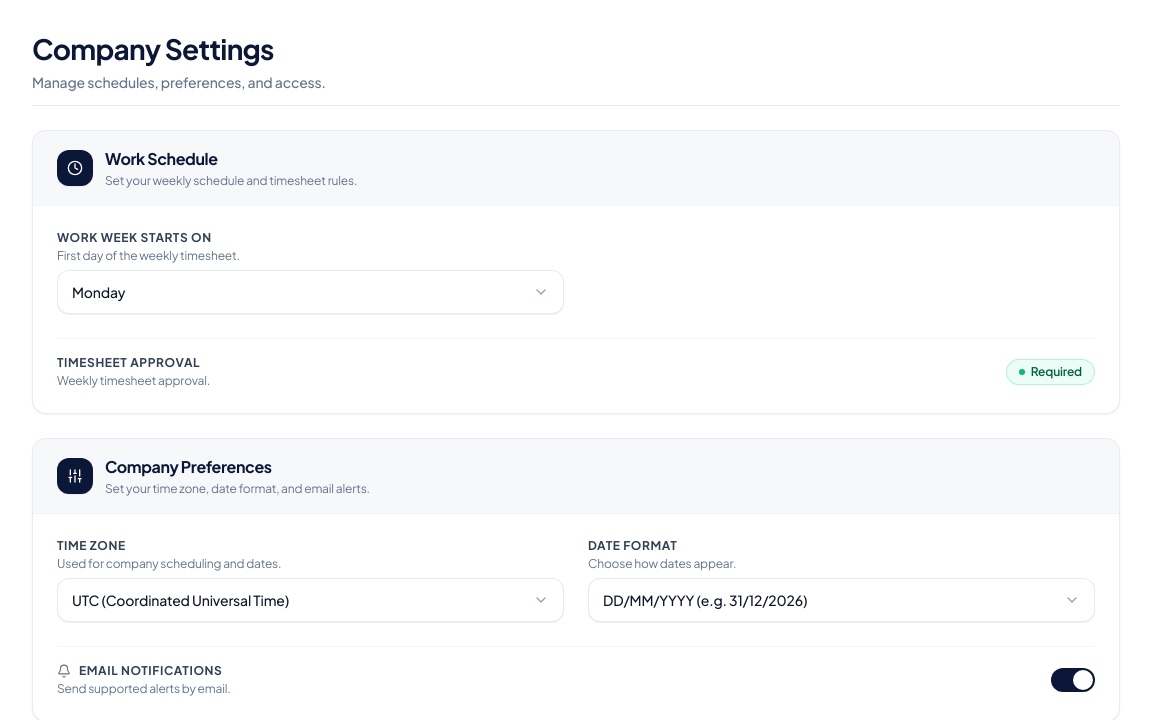
OrganizationSettings - Company Settings Page › toggles email notifications, reveals unsaved changes dock, and saves changes
The width and height of the screenshot is (1152, 720).
Check: the text "unsaved changes" is not shown
What coordinates should you click on to do the following:
click the switch named "toggle email notifications"
I would click on:
 (1073, 680)
Its box is [1051, 668, 1095, 692].
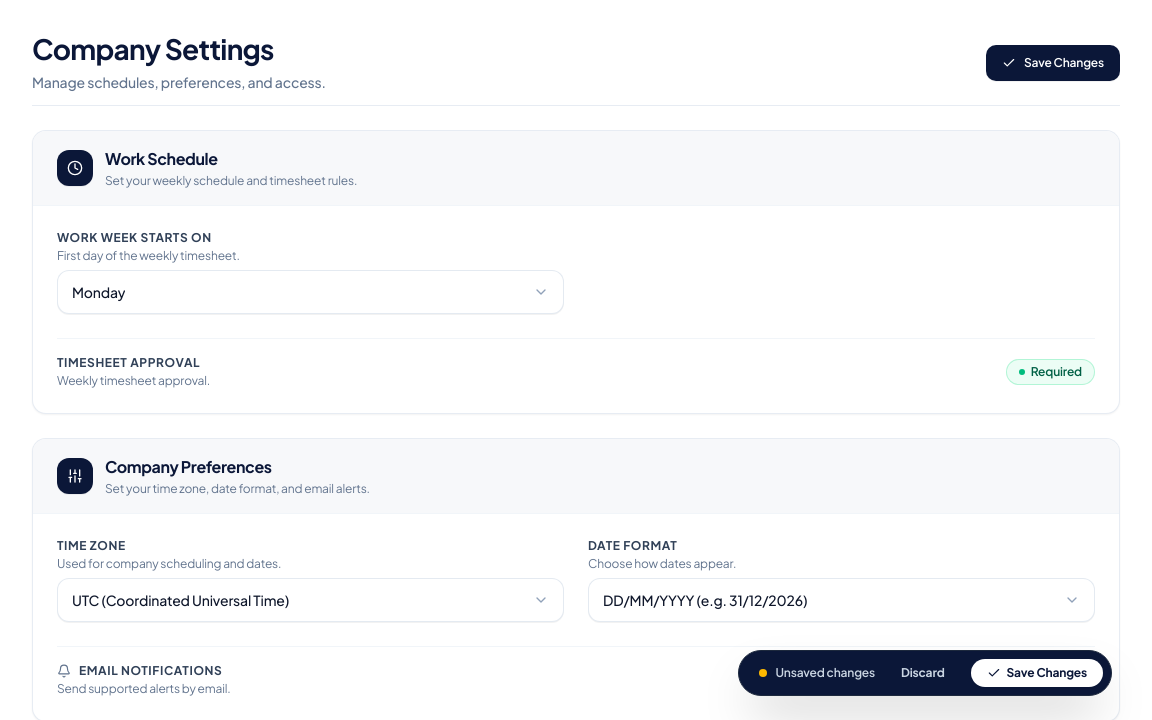
Check: the text "Unsaved changes" is shown, box [760, 665, 875, 681]
Note: Click Save Changes button
What coordinates should you click on to do the following:
click the button "Save Changes" in the row of "Unsaved changes"
I would click on:
 (1037, 673)
Its box is [971, 659, 1103, 687].
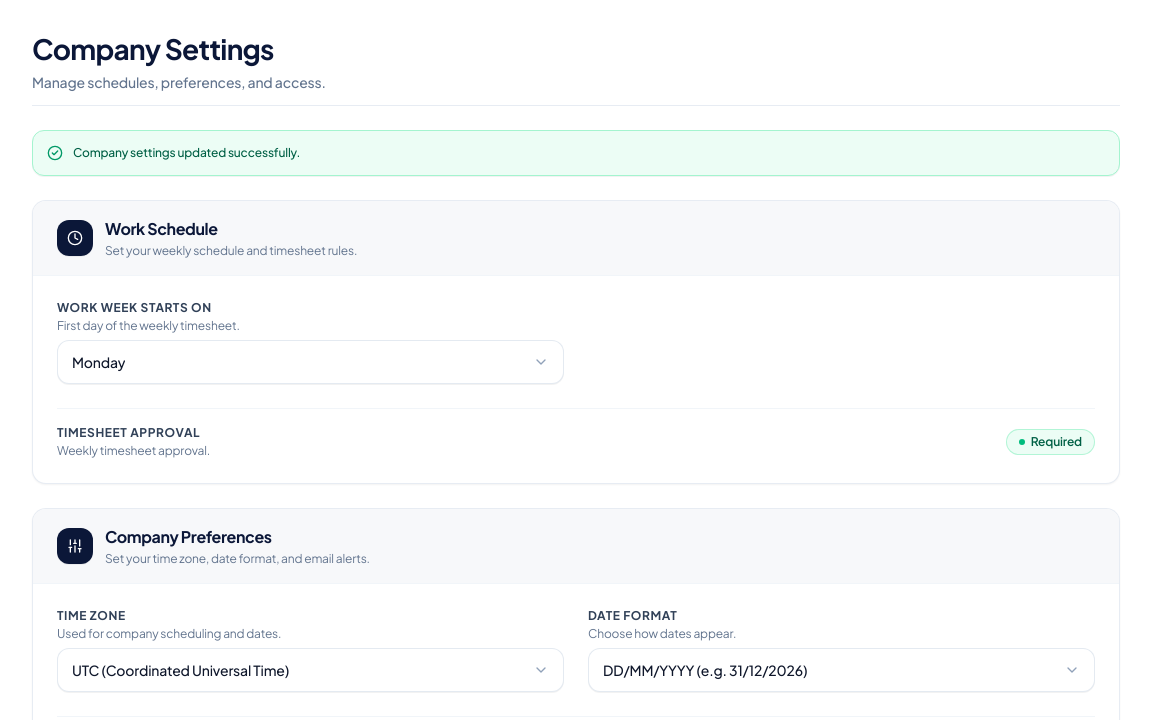
Check: the text "Company settings updated successfully." is shown, box [73, 145, 300, 161]
